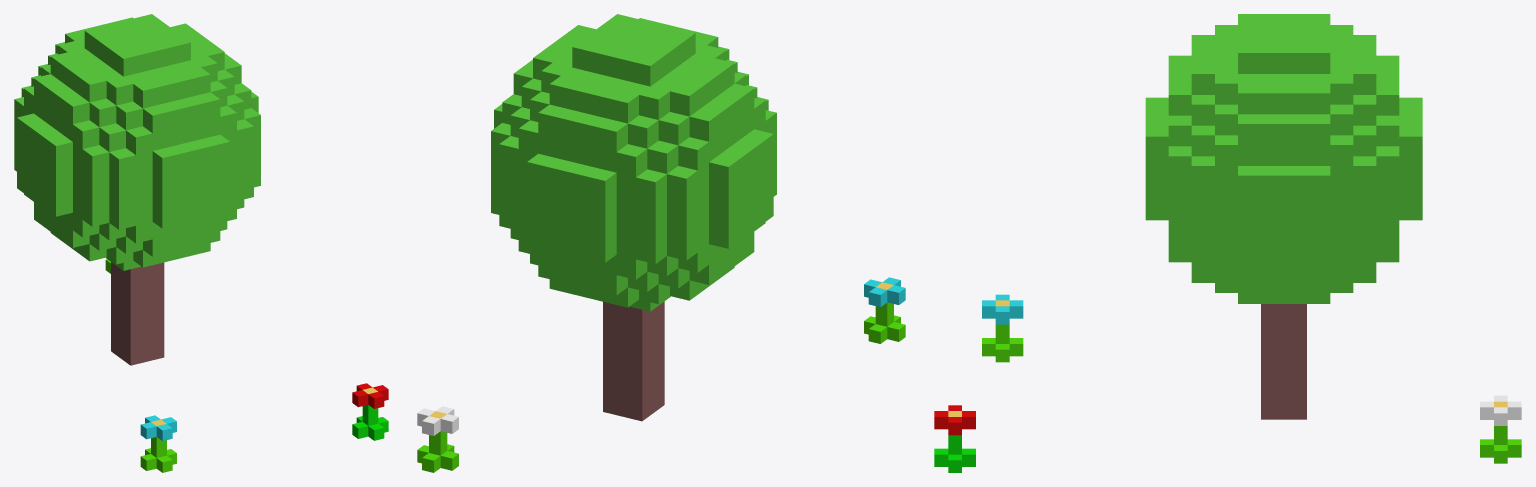
Rendered from main_level.gltf.
The picture shows the model from 3 angles, left to right: view 1: azimuth 30°, elevation 25°; view 2: azimuth 150°, elevation 25°; view 3: azimuth 270°, elevation 25°; orthographic projection. The views are drawn at different scales.
Parts seen in each view (by area): view 1: tree_circle, red_flower, flower_blue; view 2: tree_circle, flower_white, flower_blue; view 3: tree_circle, flower_blue, flower_white, red_flower.
Boxes of the visible parts, left/top/right/bottom form: tree_circle: left=14, top=14, right=260, bottom=365; red_flower: left=352, top=383, right=388, bottom=440; flower_blue: left=140, top=415, right=176, bottom=472; tree_circle: left=491, top=14, right=776, bottom=421; flower_white: left=417, top=406, right=458, bottom=472; flower_blue: left=864, top=277, right=905, bottom=343; tree_circle: left=1145, top=14, right=1422, bottom=419; flower_blue: left=982, top=294, right=1023, bottom=362; flower_white: left=1480, top=395, right=1521, bottom=463; red_flower: left=934, top=405, right=975, bottom=472.
Size of what is drawn, in the model's own units: 13.15 by 18 by 25.44.
10 materials, 1 textured.
